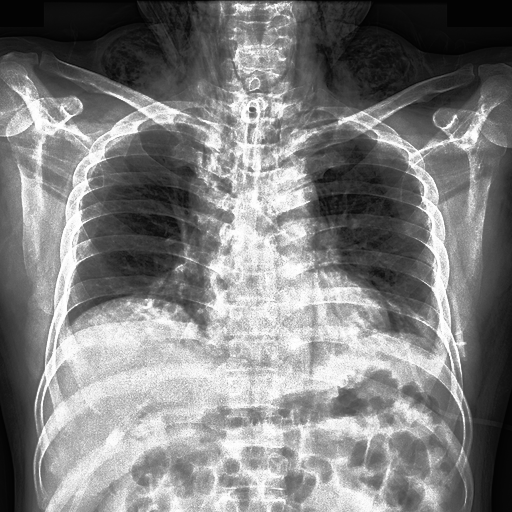Consolidation: (263, 161, 320, 243)
Nodule/Mass: (199, 274, 394, 343)
Other lesion: (2, 132, 477, 233), (58, 14, 478, 105), (314, 141, 501, 224), (296, 3, 412, 106), (111, 1, 223, 97), (5, 131, 90, 205)
Pleural thickening: (189, 131, 228, 252)
